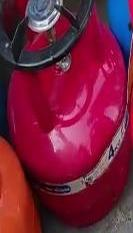cylinder: (1, 1, 133, 233)
